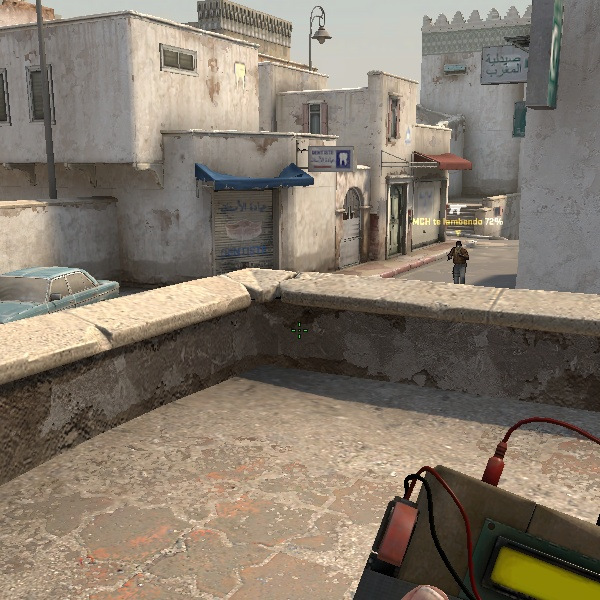t_body: (443, 236, 473, 284)
